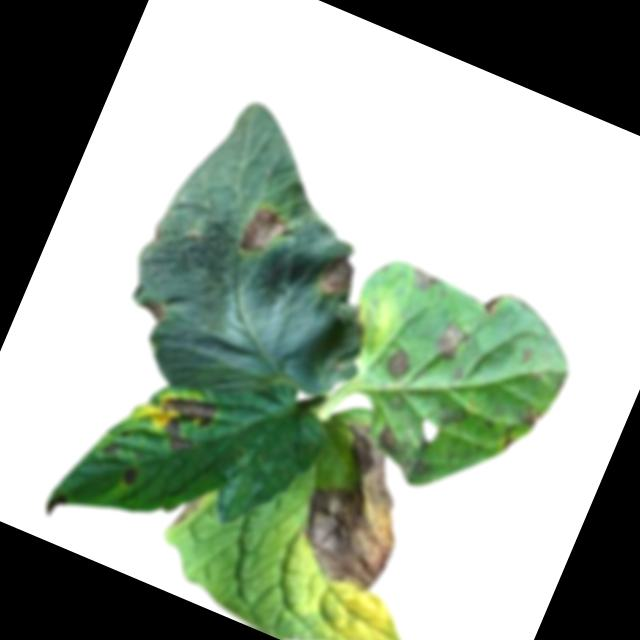Early_blight: (284, 418, 434, 595), (150, 385, 219, 461), (233, 199, 294, 265), (310, 248, 361, 303), (428, 316, 473, 363), (171, 488, 204, 534), (136, 291, 175, 325), (383, 346, 413, 380), (408, 263, 441, 293), (41, 488, 70, 521), (377, 423, 408, 453), (518, 403, 545, 430), (118, 462, 141, 487), (480, 291, 501, 314), (102, 437, 121, 455)
